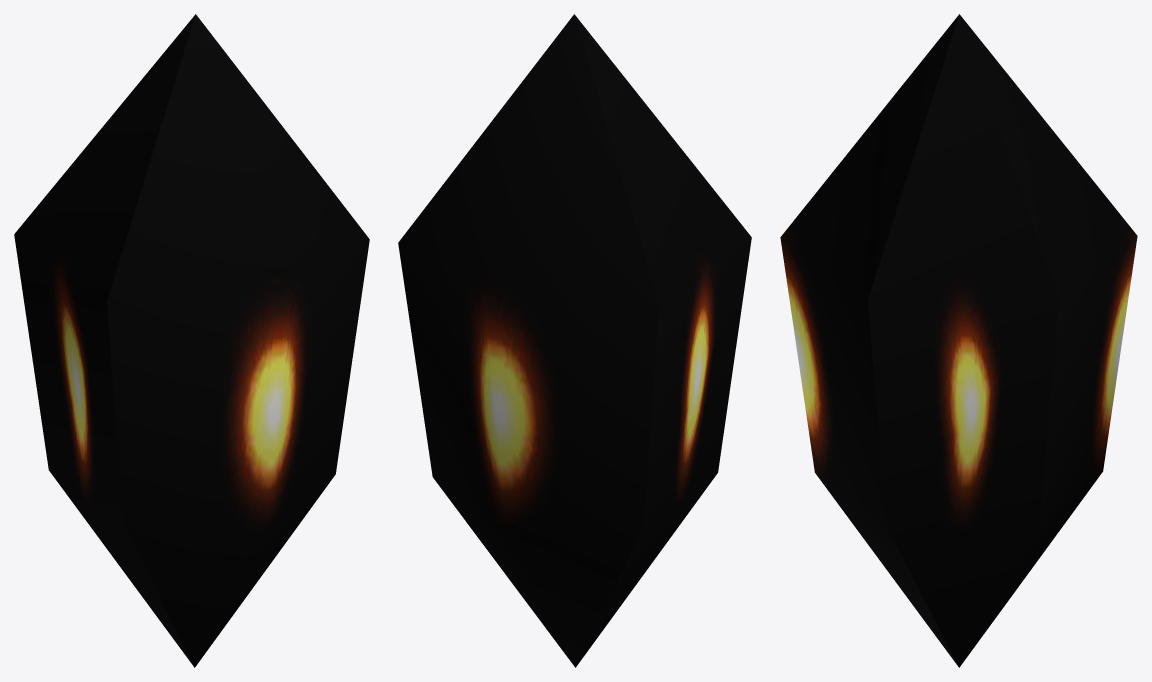
Rendered from 0431_shuijinchuizi_M.glb.
3 renders of one model, left to right at view 1: azimuth 30°, elevation 25°; view 2: azimuth 150°, elevation 25°; view 3: azimuth 270°, elevation 25°, orthographic.
Size of the model in its own units: 0.9212 by 2.2 by 1.09.
1 material, 1 textured.
